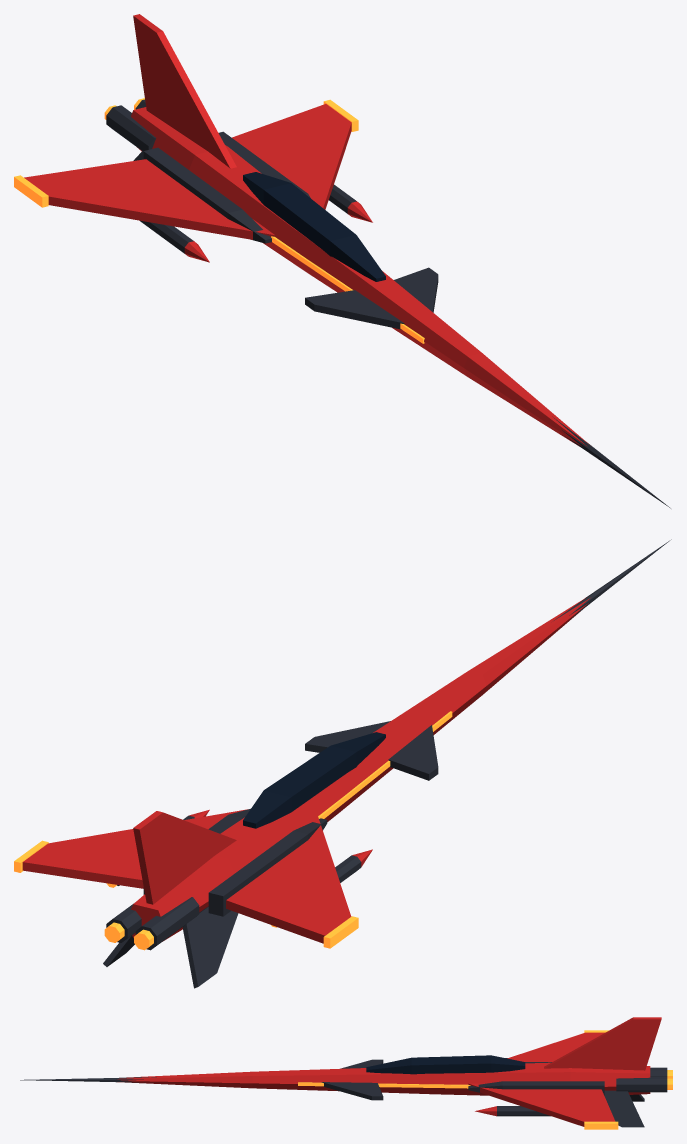
Rendered from enemy_dart.glb.
The picture shows the model from 3 angles, top to bottom: view 1: azimuth 30°, elevation 25°; view 2: azimuth 150°, elevation 25°; view 3: azimuth 270°, elevation 25°; orthographic projection. The views are drawn at different scales.
Parts seen in each view (by area): view 1: enemy_dart; view 2: enemy_dart; view 3: enemy_dart.
Boxes of the visible parts, bbox=[...] form: enemy_dart: bbox=[14, 14, 670, 508]; enemy_dart: bbox=[14, 539, 671, 988]; enemy_dart: bbox=[20, 1017, 672, 1129].
Bounding box in the file's own units: 0.4014 × 0.1934 × 1.2.
